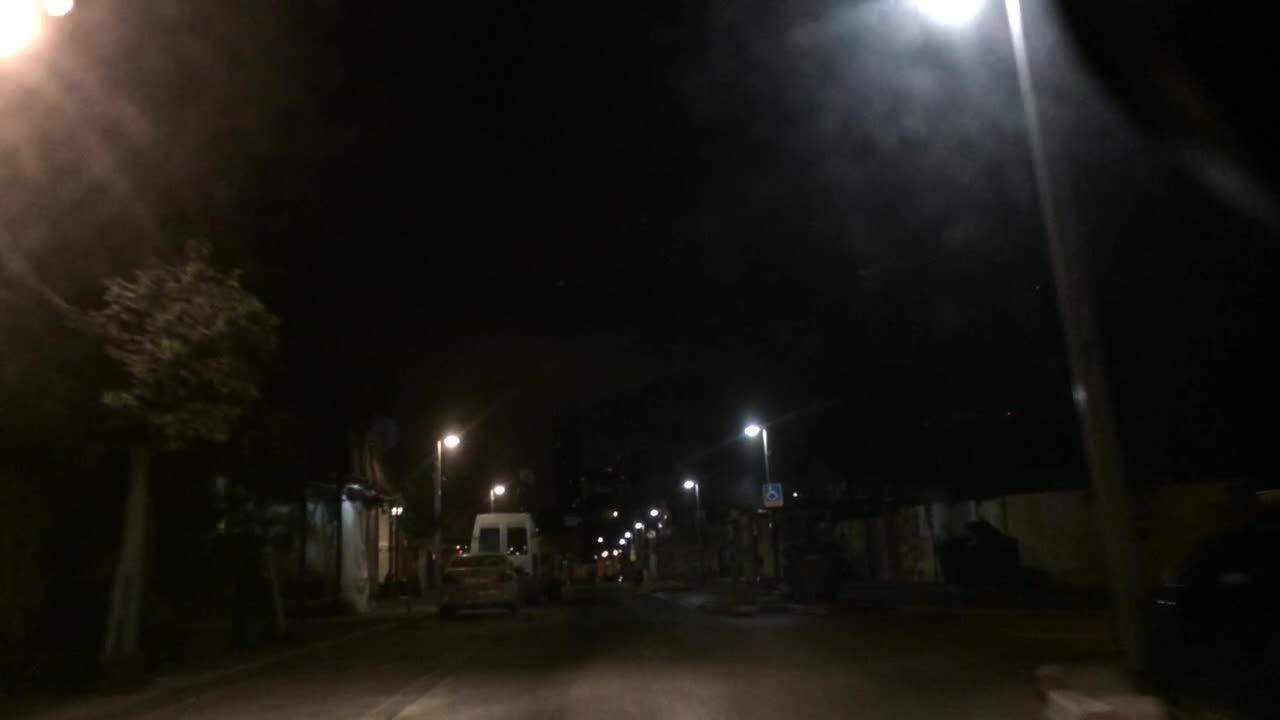car: (466, 508, 547, 599), (433, 548, 526, 617), (540, 556, 569, 588), (564, 557, 596, 582)
traffic sign: (758, 482, 783, 506), (643, 525, 657, 539)
